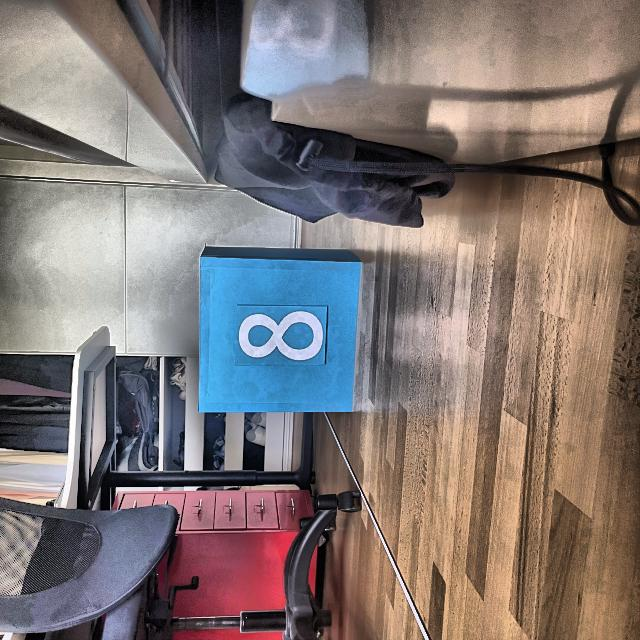blue box: (194, 238, 363, 419)
eight: (235, 305, 326, 363)
